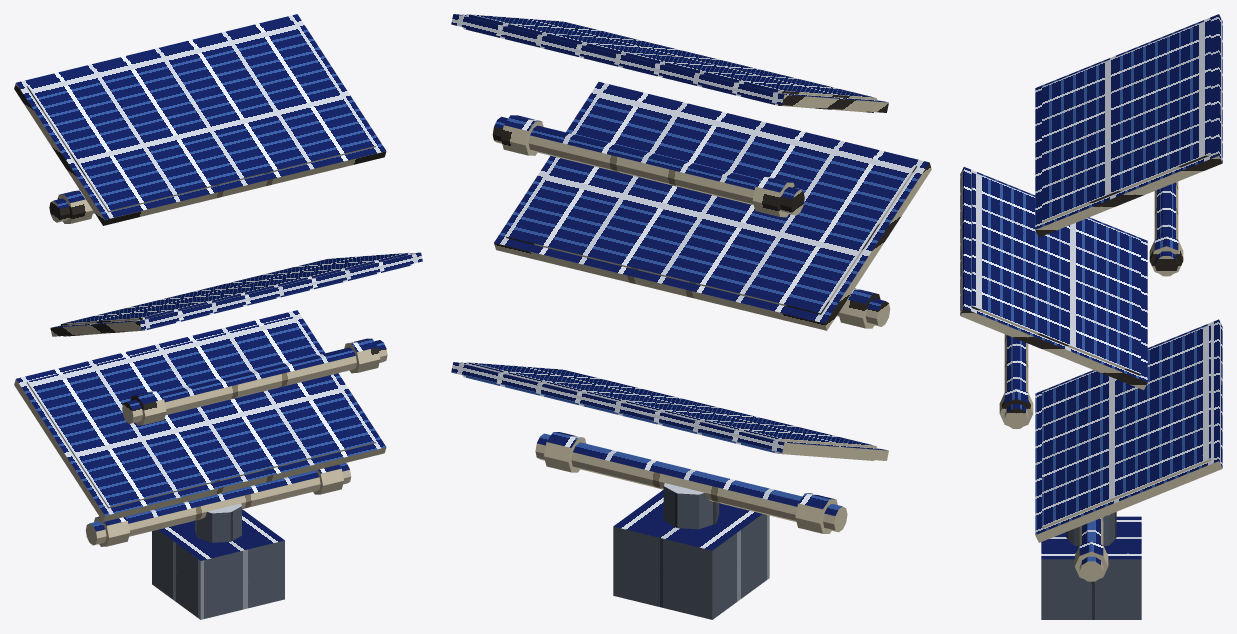
The model's file is solar_std.glb.
3 views of the same model, side by side, from view 1: azimuth 30°, elevation 25°; view 2: azimuth 150°, elevation 25°; view 3: azimuth 270°, elevation 25° (orthographic). The views are drawn at different scales.
Parts seen in each view (by area): view 1: solar_std; view 2: solar_std; view 3: solar_std.
Part boxes in pixels (bbox=[...]): solar_std: bbox=[14, 14, 422, 619]; solar_std: bbox=[451, 14, 931, 619]; solar_std: bbox=[960, 14, 1222, 619].
Bounding box in the file's own units: 0.4 × 0.6764 × 0.3133.
Materials: 3 (3 with a texture image).
